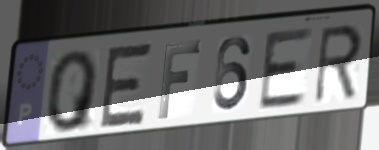6: (212, 35, 253, 115)
E: (256, 24, 316, 114), (97, 40, 155, 132)
F: (155, 39, 203, 122)
Q: (45, 47, 101, 136)
R: (312, 21, 365, 107)
